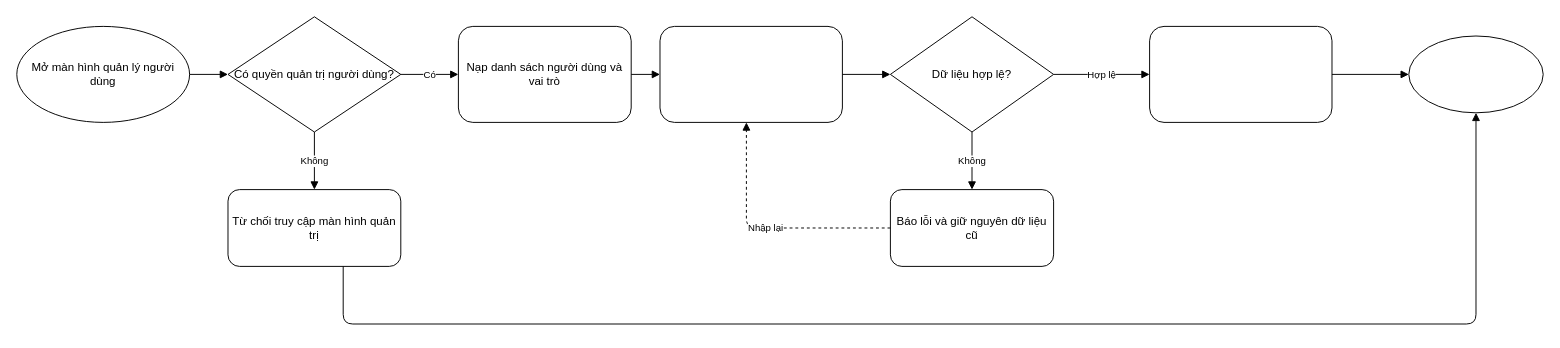
This 1560x348 diagram has some shape labels left out. The centre of each missing label's shape, as x and y in pixels:
Chọn tài khoản cần sửa và nhập thay đổi: (x=750, y=73)
Cập nhật tài khoản: (x=1240, y=73)
Kết thúc: (x=1475, y=74)
